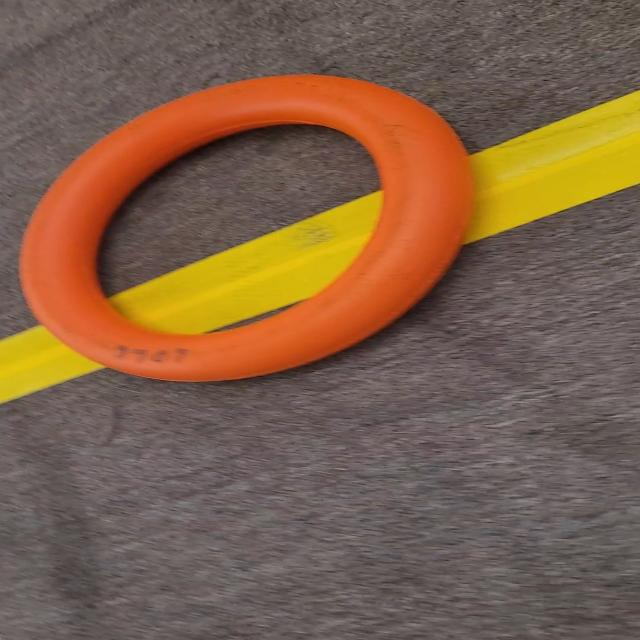note: (28, 69, 460, 389)
